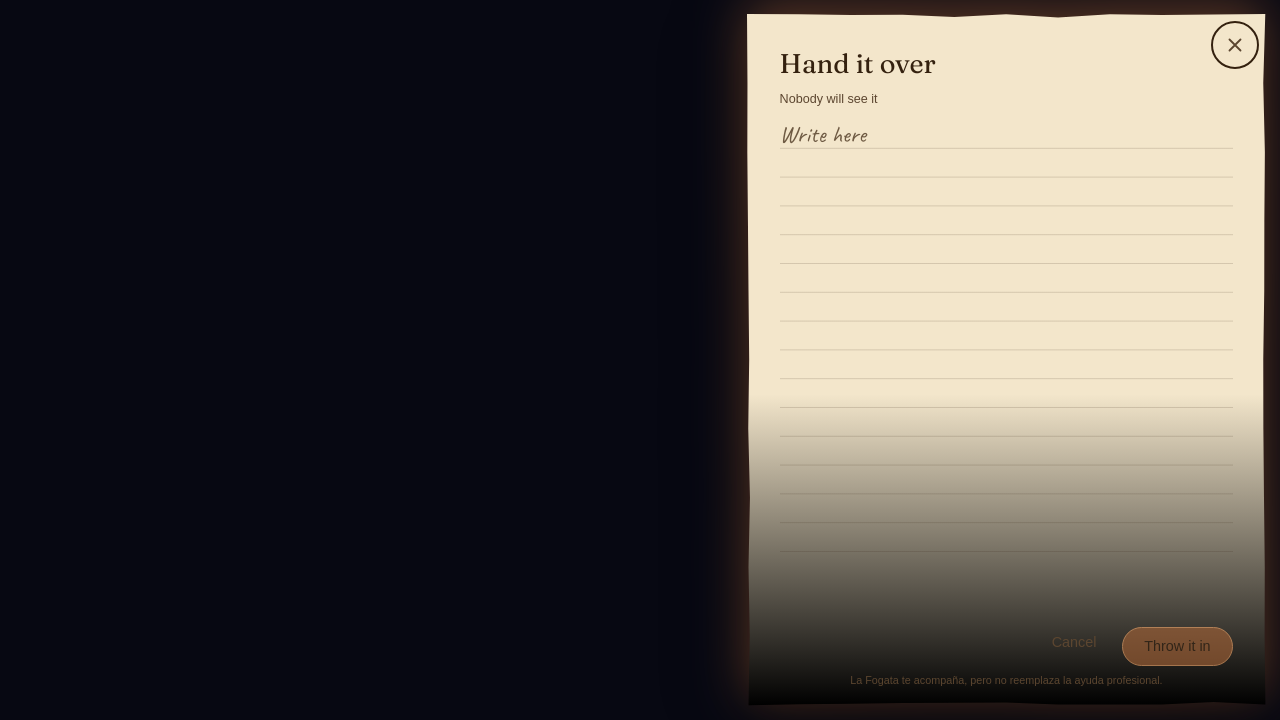
Test: PaperDialog › keeps the submit button off until there is something to hand over
Expected: the button "Throw it in" is disabled, [1122,627,1233,666]
Type "something heavy" into the text box named "Your burden".
click(1006, 346); type("something heavy")  # box [780,120,1233,572]
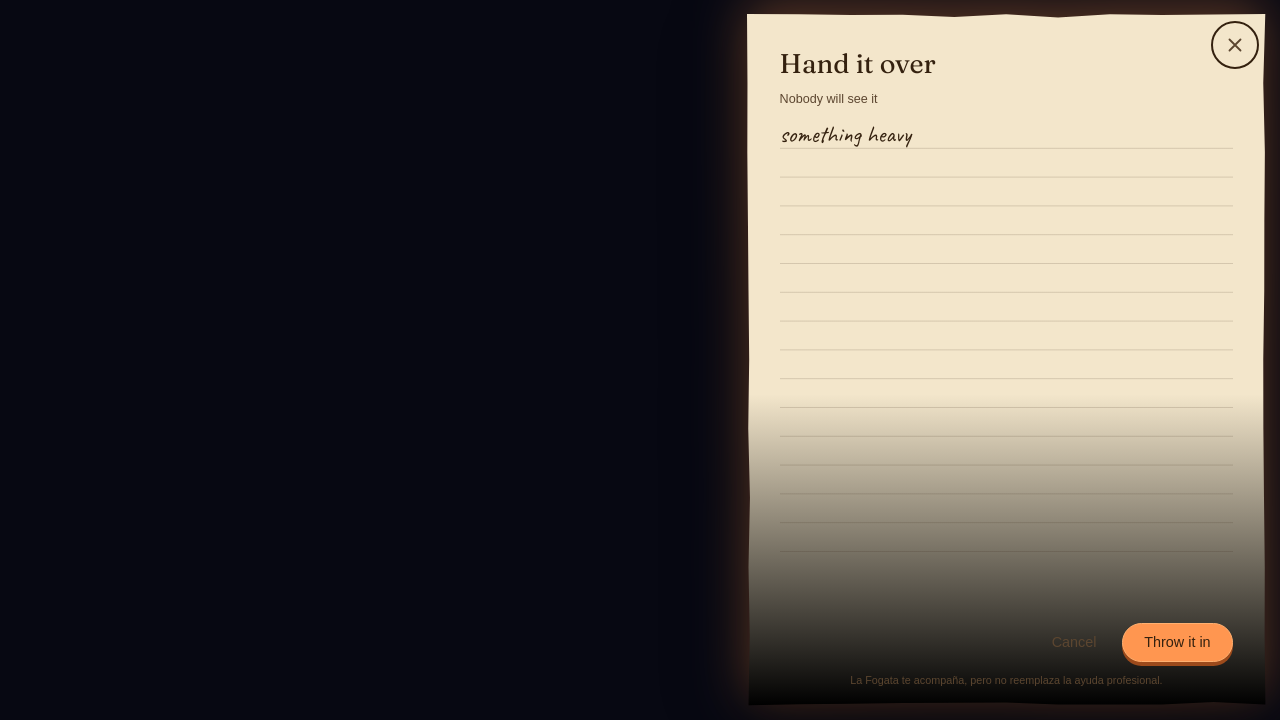
Expected: the button "Throw it in" is enabled, [1122,623,1233,662]
